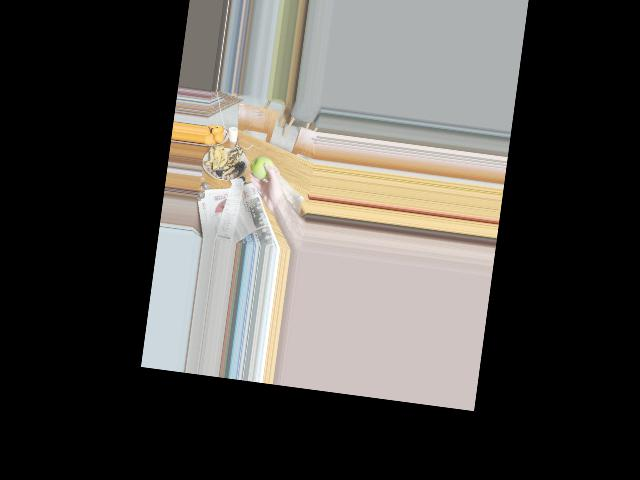apple: (248, 154, 276, 185)
